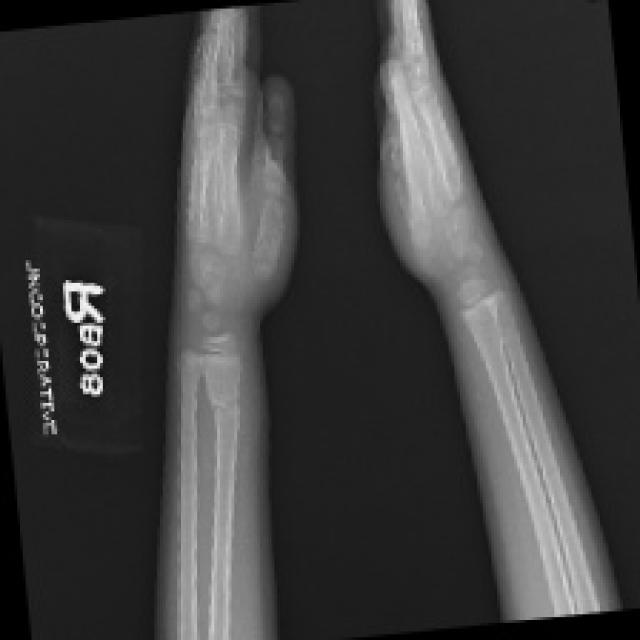fracture: (200, 372, 263, 446)
